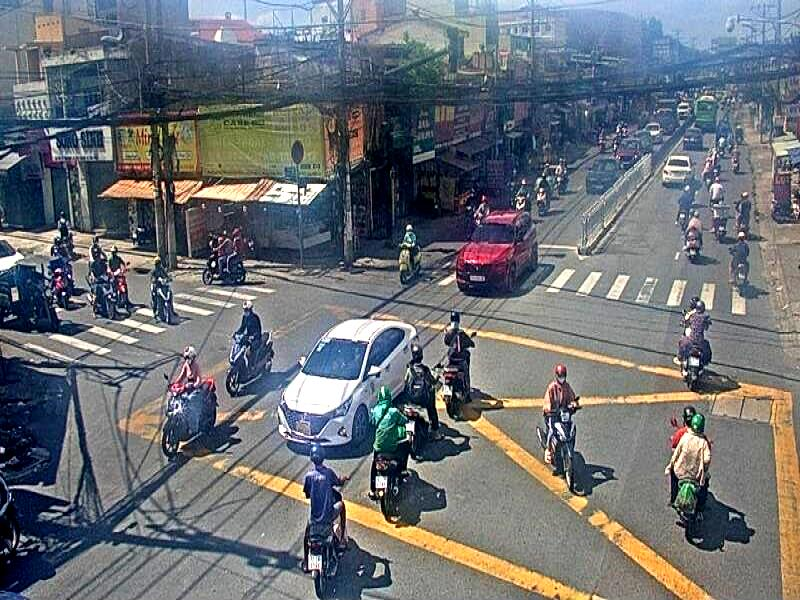car: (278, 305, 420, 452), (456, 209, 540, 304), (2, 232, 26, 318), (660, 154, 698, 188)
motorcycle: (537, 403, 587, 504), (304, 484, 348, 598), (162, 376, 218, 465), (370, 427, 416, 526), (442, 332, 485, 422), (226, 322, 276, 398), (406, 376, 442, 461), (673, 476, 708, 547), (0, 482, 27, 562), (197, 246, 249, 286), (677, 342, 708, 395), (87, 274, 121, 319), (394, 240, 423, 286), (151, 274, 175, 327)
truck: (0, 245, 65, 331)
